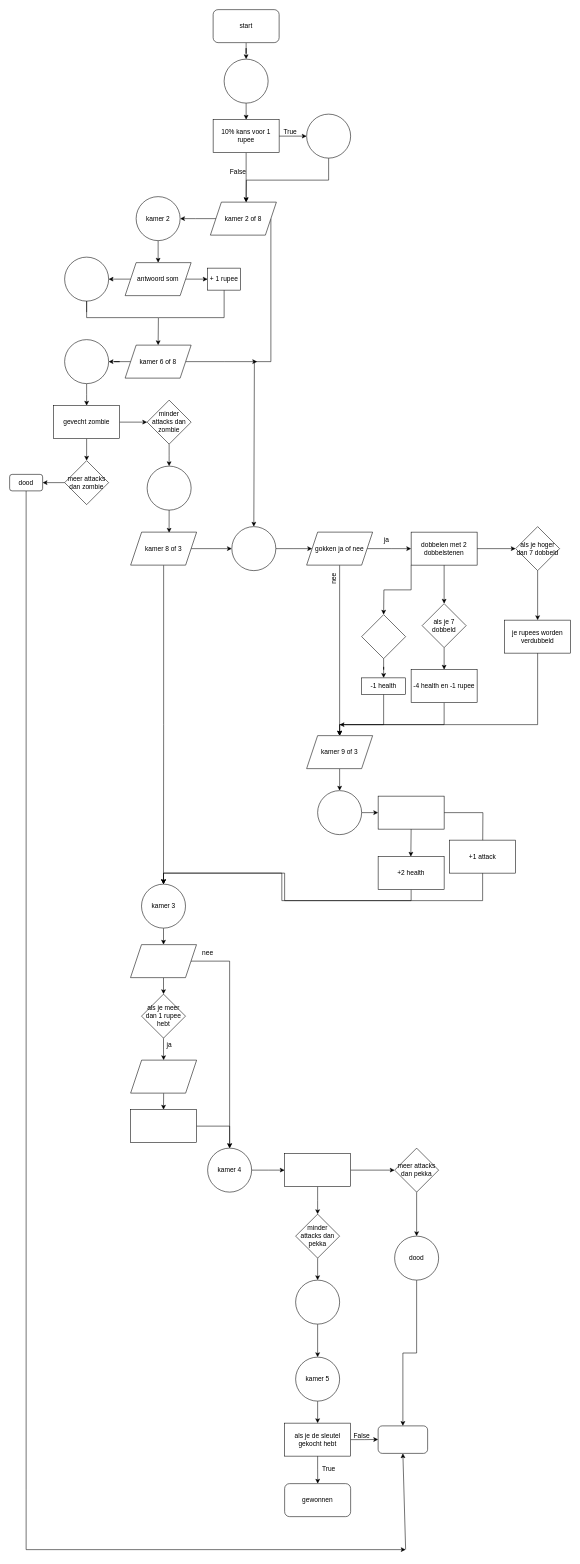
Image size: 580x1564. Some labels were removed from this diagram. The centre of each missing label's shape, as x and y in pixels:
"+1 rupee" goes at point (328, 136).
"- aantal rupees" goes at point (163, 1126).
"als je lager dan 7 dobbled" goes at point (383, 636).
"gebeurt niks" goes at point (86, 279).
"gevecht pekka" goes at point (317, 1170).
"health of attack" goes at point (411, 812).
"kamer 6" goes at point (86, 361).
"kamer 7" goes at point (246, 81).
"kamer 8" goes at point (253, 548).
"kamer 9" goes at point (339, 812).
"pekka is dood" goes at point (317, 1302).
"verloren" goes at point (403, 1439).
"wat wil je kopen" goes at point (163, 1076).
"wil je iets kopen" goes at point (163, 961).
"zombie is dood" goes at point (169, 488).
